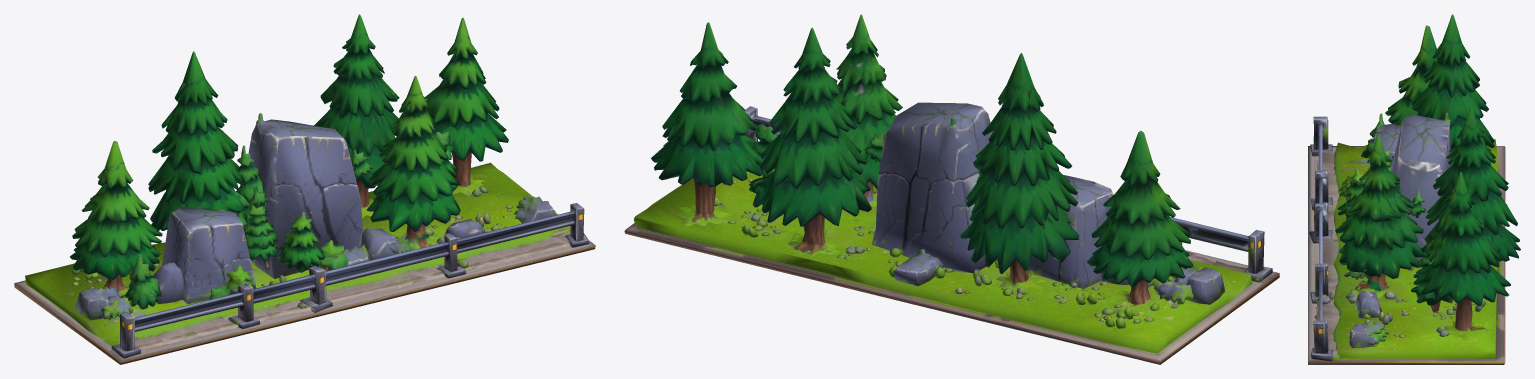
File: Stylized_Pine_Tree.glb
3 views of the same model, side by side, from view 1: azimuth 30°, elevation 25°; view 2: azimuth 150°, elevation 25°; view 3: azimuth 270°, elevation 25° (orthographic). The views are drawn at different scales.
Size of the model in its own units: 0.9614 by 0.4253 by 0.4014.
1 material, 1 textured.
